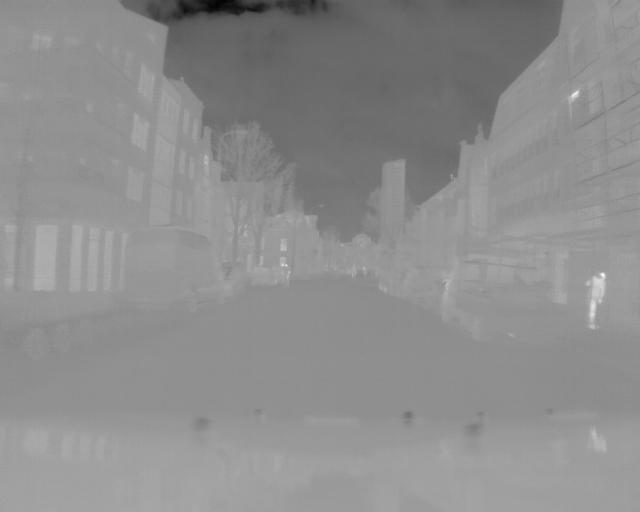car: (124, 226, 226, 312)
person: (585, 271, 609, 330)
